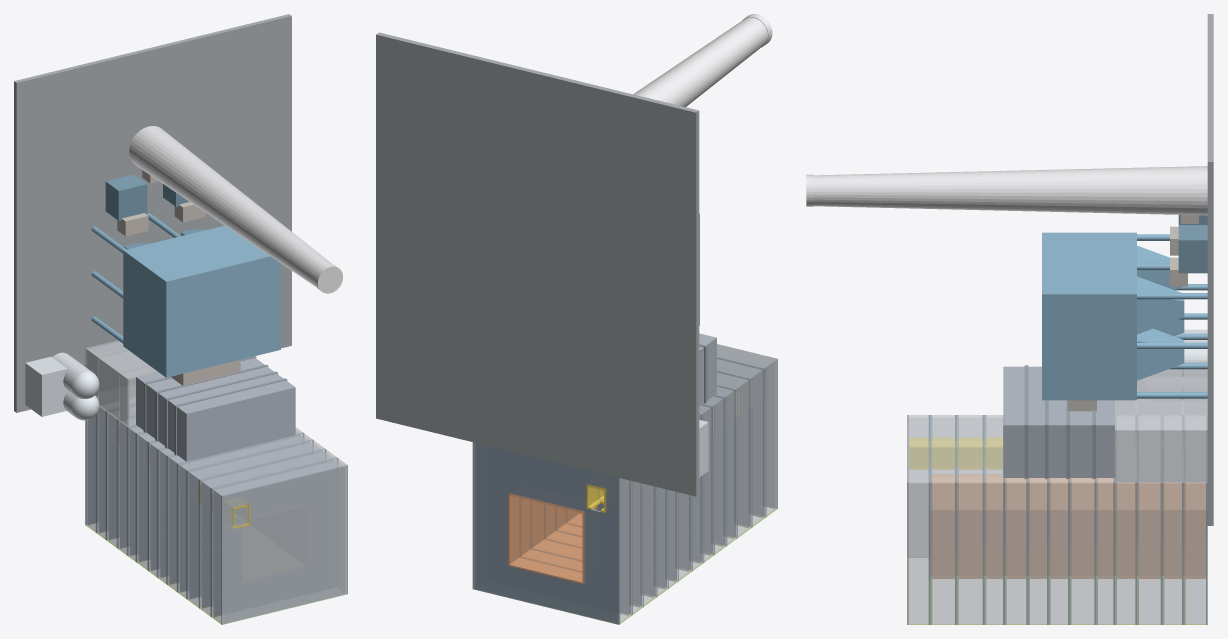
Rendered from boiler.glb.
The picture shows the model from 3 angles, left to right: view 1: azimuth 30°, elevation 25°; view 2: azimuth 150°, elevation 25°; view 3: azimuth 270°, elevation 25°; orthographic projection. The views are drawn at different scales.
Size of the model in its own units: 48 by 76.5 by 55.8.
